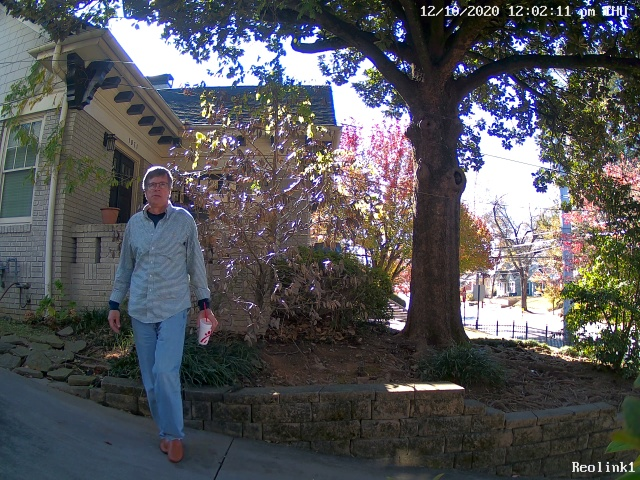person: (96, 153, 230, 477)
